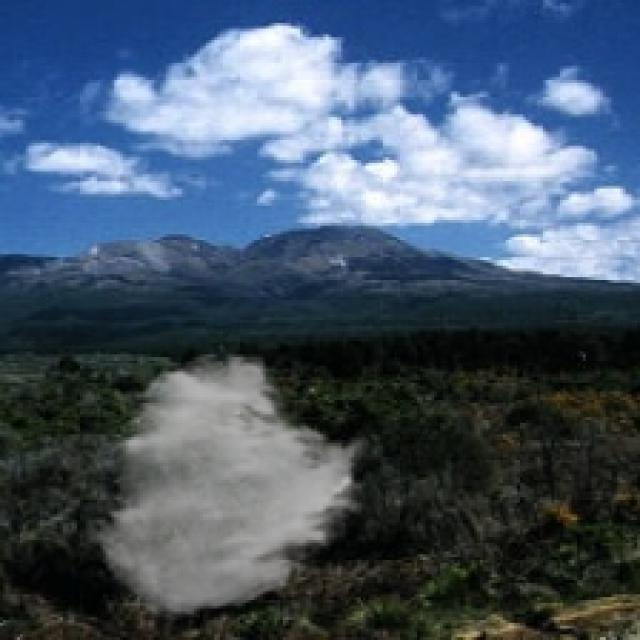smoke: (94, 349, 374, 620)
